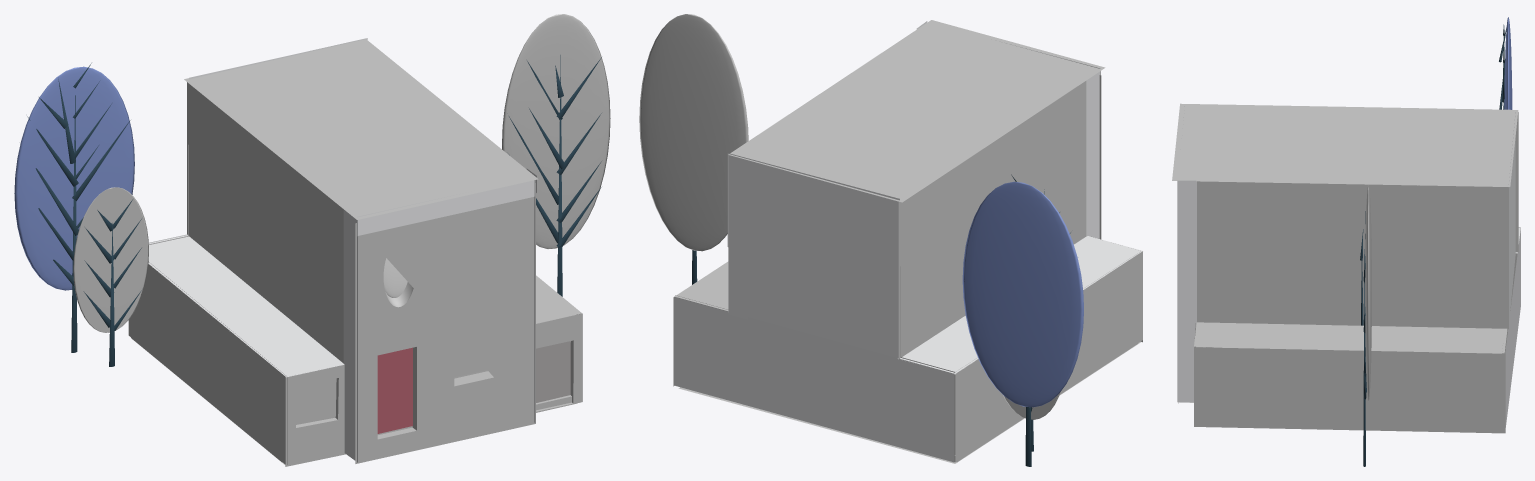
Rendered from casa.obj.
3 renders of one model, left to right at view 1: azimuth 30°, elevation 25°; view 2: azimuth 150°, elevation 25°; view 3: azimuth 270°, elevation 25°, orthographic. The views are drawn at different scales.
Parts seen in each view (by area): view 1: polySurface190, polySurface5 pCube1 polySurface208, pSphere15, pSphere13, polySurface5 pCube1 polySurface186, polySurface5 pCube1 polySurface201, polySurface5 pCube1 polySurface41, polySurface5 pCube1 polySurface170, pSphere14, polySurface45, polySurface194 polySurface1 pCube2, polySurface5 pCube1 polySurface209 (+9 smaller); view 2: polySurface5 pCube1 polySurface208, polySurface5 pCube1 polySurface184, pSphere13, pSphere15, polySurface5 pCube1 polySurface203, polySurface5 pCube1 polySurface201, polySurface5 pCube1 polySurface204, polySurface5 pCube1 polySurface41, polySurface5 pCube1 polySurface186, polySurface5 pCube1 polySurface170, polySurface194 polySurface1 pCube2, polySurface5 pCube1 polySurface185 (+1 smaller); view 3: polySurface5 pCube1 polySurface208, polySurface8 polySurface5 pCube1 polySurface9 polySurface40, polySurface8 polySurface5 pCube1 polySurface9 polySurface202, polySurface8 polySurface5 pCube1 polySurface9 polySurface187, polySurface5 pCube1 polySurface185, polySurface1 pCube2 polySurface195, polySurface5 pCube1 polySurface184, pSphere15, pSphere13, polySurface5 pCube1 polySurface203, polySurface5 pCube1 polySurface186, polySurface5 pCube1 polySurface204.
Boxes of the visible parts, x1,y1,x2,y2 form: polySurface190: [355, 183, 535, 463]; polySurface5 pCube1 polySurface208: [184, 39, 538, 219]; pSphere15: [502, 14, 610, 248]; pSphere13: [14, 66, 134, 290]; polySurface5 pCube1 polySurface186: [187, 147, 343, 363]; polySurface5 pCube1 polySurface201: [187, 82, 343, 294]; polySurface5 pCube1 polySurface41: [128, 264, 285, 464]; polySurface5 pCube1 polySurface170: [148, 235, 344, 377]; pSphere14: [73, 187, 148, 332]; polySurface45: [285, 365, 345, 466]; polySurface194 polySurface1 pCube2: [343, 209, 357, 462]; polySurface5 pCube1 polySurface209: [357, 180, 535, 235]; polySurface5 pCube1 polySurface208: [728, 20, 1105, 202]; polySurface5 pCube1 polySurface184: [674, 297, 954, 462]; pSphere13: [962, 181, 1083, 407]; pSphere15: [639, 14, 748, 251]; polySurface5 pCube1 polySurface203: [727, 153, 899, 292]; polySurface5 pCube1 polySurface201: [898, 81, 1086, 288]; polySurface5 pCube1 polySurface204: [728, 247, 900, 357]; polySurface5 pCube1 polySurface41: [955, 251, 1142, 462]; polySurface5 pCube1 polySurface186: [898, 148, 1086, 358]; polySurface5 pCube1 polySurface170: [898, 236, 1143, 374]; polySurface194 polySurface1 pCube2: [1086, 71, 1100, 238]; polySurface5 pCube1 polySurface185: [675, 261, 728, 310]; polySurface5 pCube1 polySurface208: [1172, 103, 1518, 186]; polySurface8 polySurface5 pCube1 polySurface9 polySurface40: [1194, 347, 1505, 433]; polySurface8 polySurface5 pCube1 polySurface9 polySurface202: [1197, 181, 1508, 267]; polySurface8 polySurface5 pCube1 polySurface9 polySurface187: [1197, 243, 1508, 328]; polySurface5 pCube1 polySurface185: [1194, 322, 1507, 353]; polySurface1 pCube2 polySurface195: [1177, 182, 1202, 402]; polySurface5 pCube1 polySurface184: [1505, 228, 1520, 427]; pSphere15: [1365, 185, 1371, 400]; pSphere13: [1504, 17, 1512, 109]; polySurface5 pCube1 polySurface203: [1508, 112, 1515, 264]; polySurface5 pCube1 polySurface186: [1254, 173, 1518, 252]; polySurface5 pCube1 polySurface204: [1509, 196, 1515, 323].
Bounding box in the file's own units: 106 × 60.09 × 68.55.
